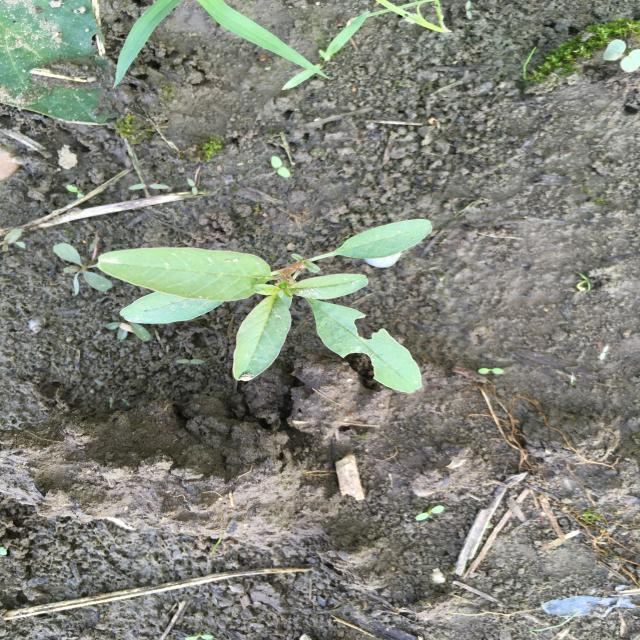Waterhemp: (94, 218, 435, 395)
